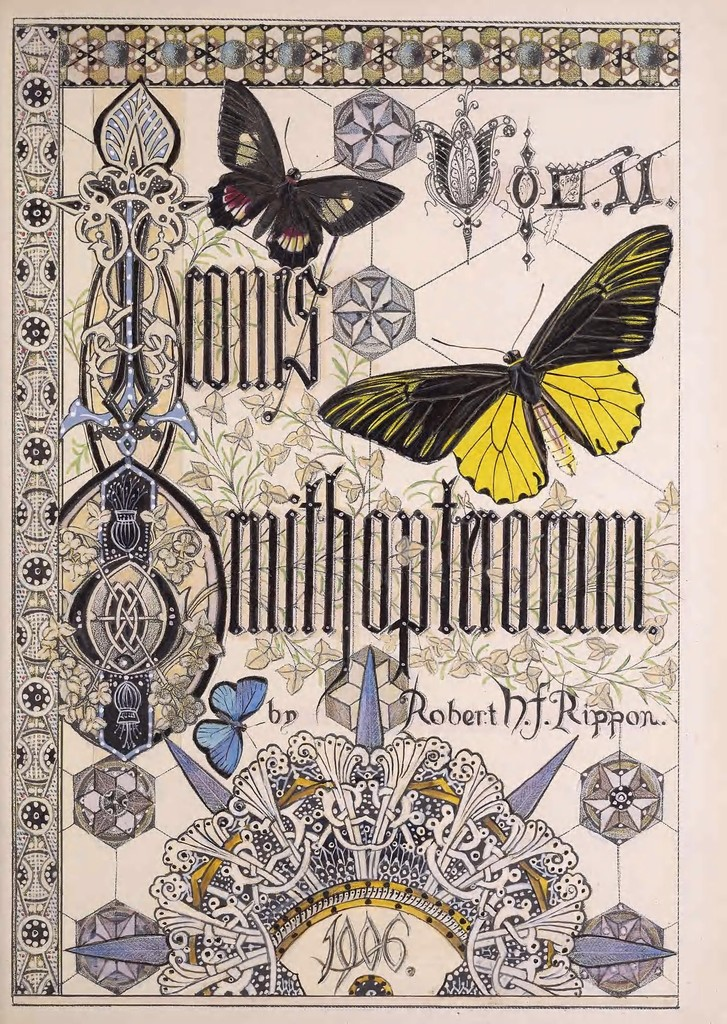Butterfly: (310, 219, 677, 510), (208, 74, 403, 270)
